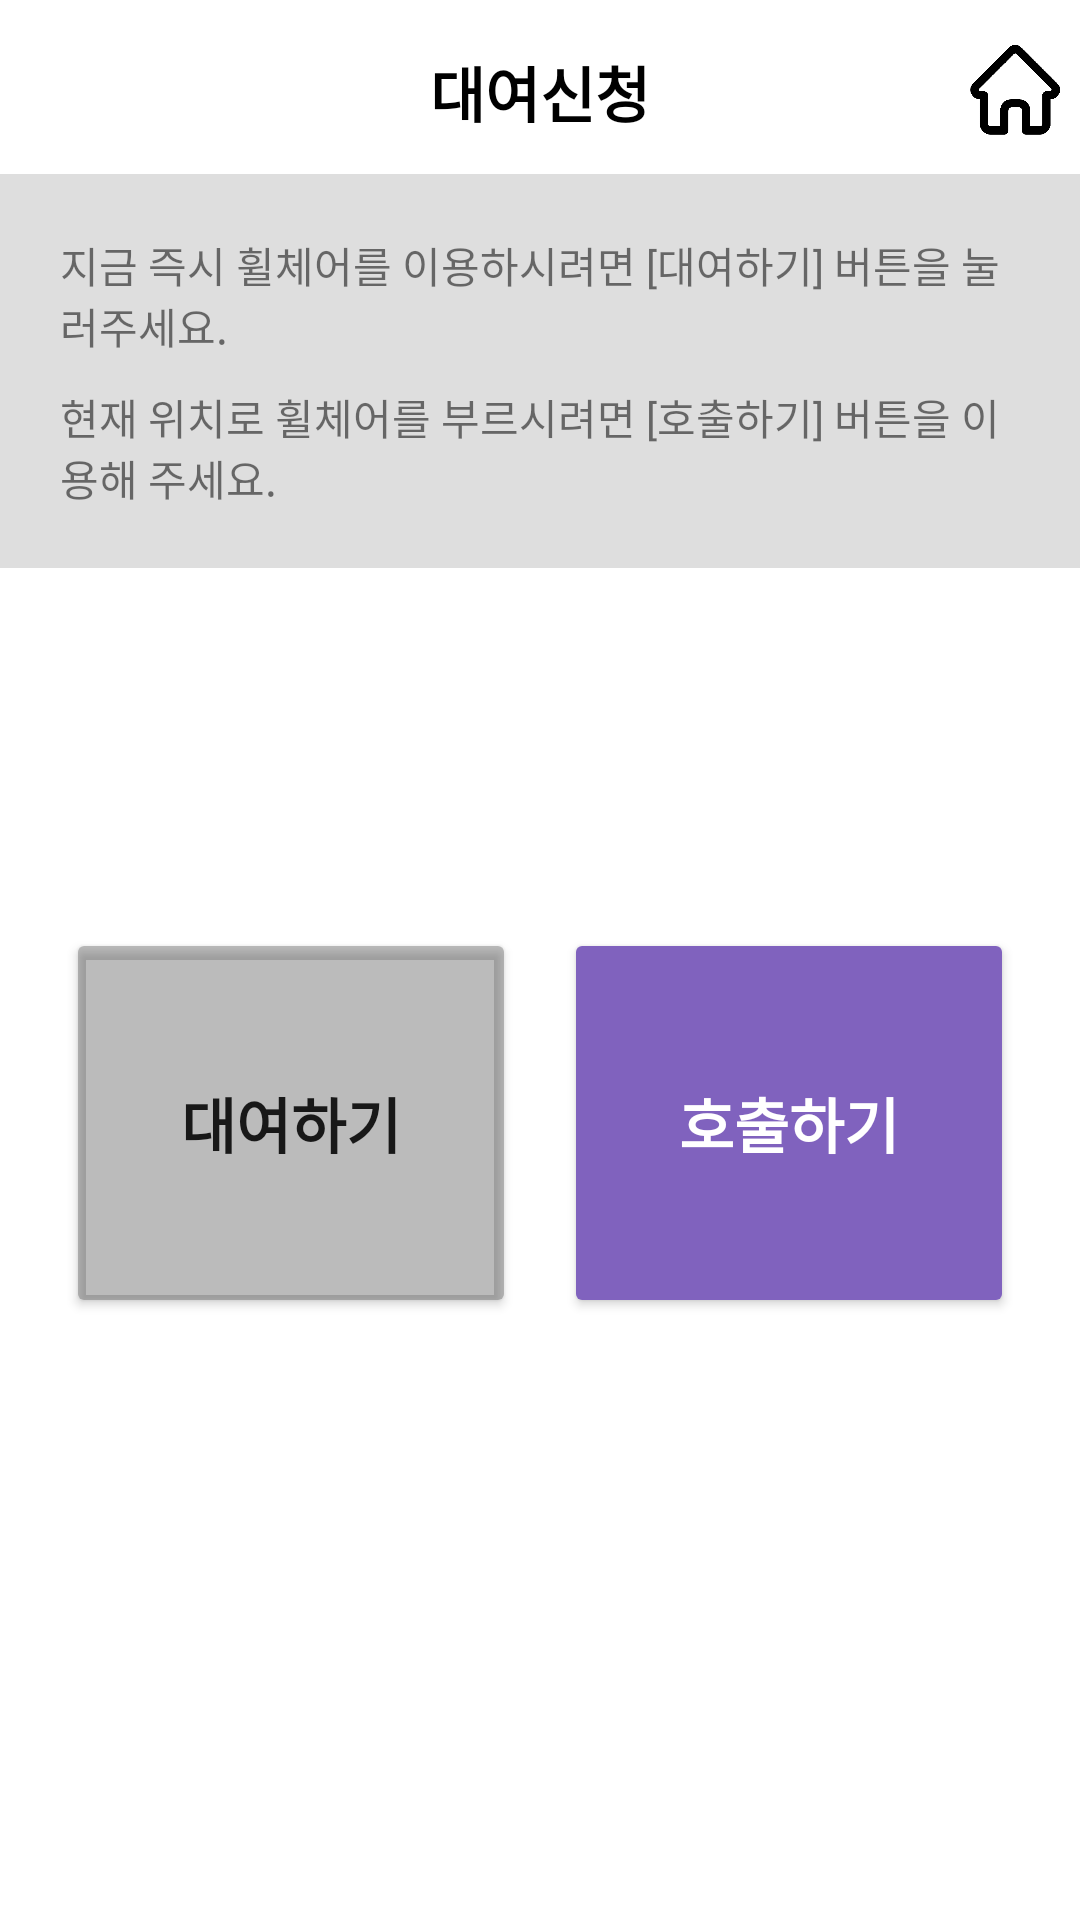

Locate icon controls on the screen. Image size 1080px×1920px, boxes as (x1, y1, x2, y2).
home: (970, 45, 1060, 135)
